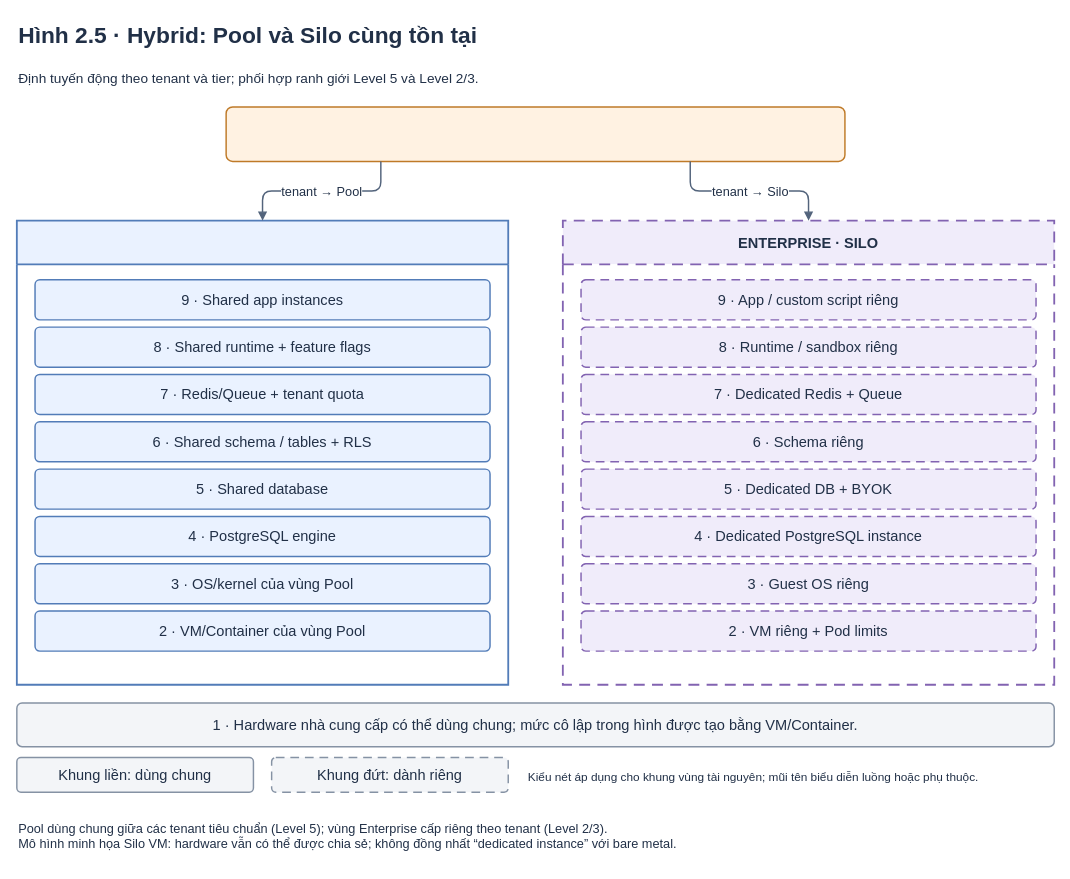
Some shapes in this 1070 by 879 pixel diagram are drawn without their labels. Each missing label, with the box of its shape:
Dynamic API Gateway · xác thực JWT + tenant/tier → registry đích: (225, 106, 845, 162)
FREE / PRO · POOL: (15, 219, 509, 685)
